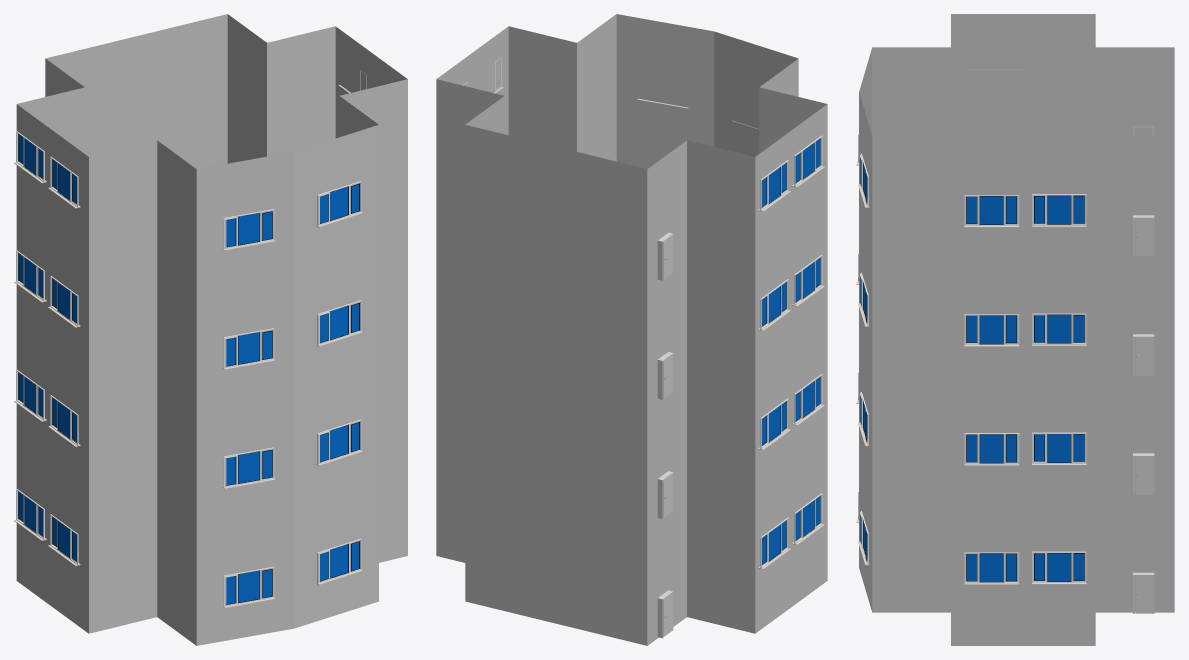
The model's file is solene immeuble_crois01____.fbx.
3 views of the same model, side by side, from view 1: azimuth 30°, elevation 25°; view 2: azimuth 150°, elevation 25°; view 3: azimuth 270°, elevation 25° (orthographic).
Visible parts, largest first — view 1: Plane.007; view 2: Plane.007; view 3: Plane.007.
Part boxes in pixels (x1,y1,x2,y2): Plane.007: (14,14,407,645); Plane.007: (436,14,827,645); Plane.007: (856,14,1174,645).
Size of the model in its own units: 288 by 400 by 242.
